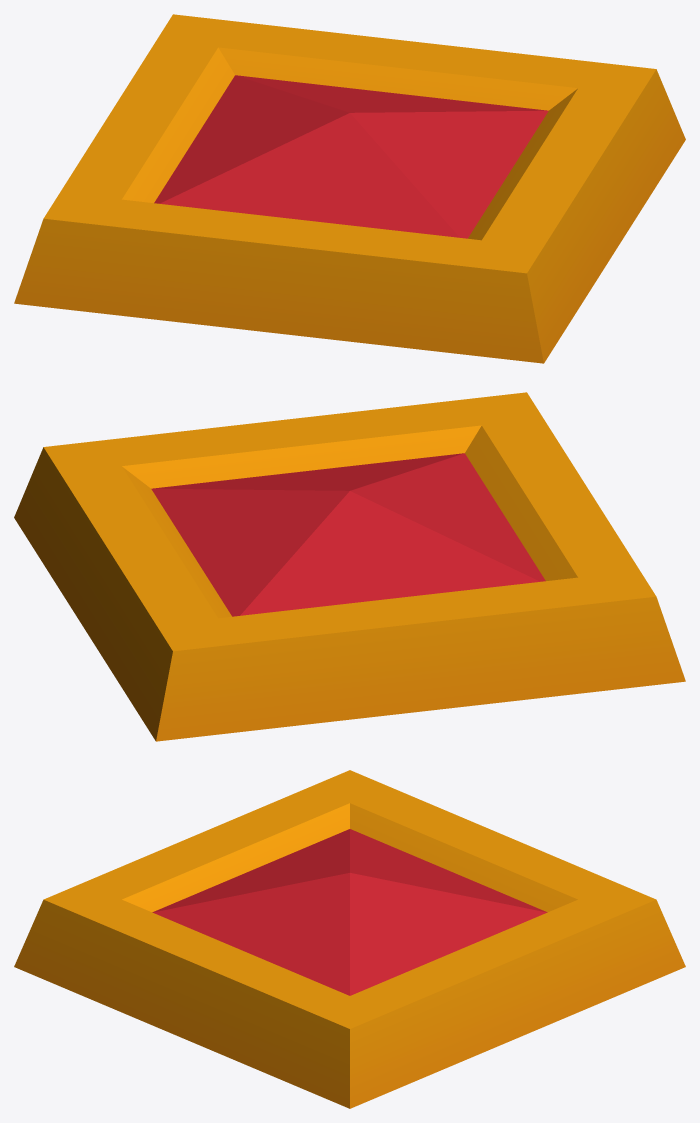
File: GemInlaid.fbx
3 renders of one model, top to bottom at view 1: azimuth 30°, elevation 25°; view 2: azimuth 150°, elevation 25°; view 3: azimuth 270°, elevation 25°, orthographic. The views are drawn at different scales.
Parts seen in each view (by area): view 1: GemInlaid; view 2: GemInlaid; view 3: GemInlaid.
Boxes of the visible parts, x1,y1,x2,y2 form: GemInlaid: (14, 14, 685, 363); GemInlaid: (14, 392, 685, 741); GemInlaid: (14, 770, 685, 1108).
Size of the model in its own units: 10.11 by 1.56 by 10.11.
